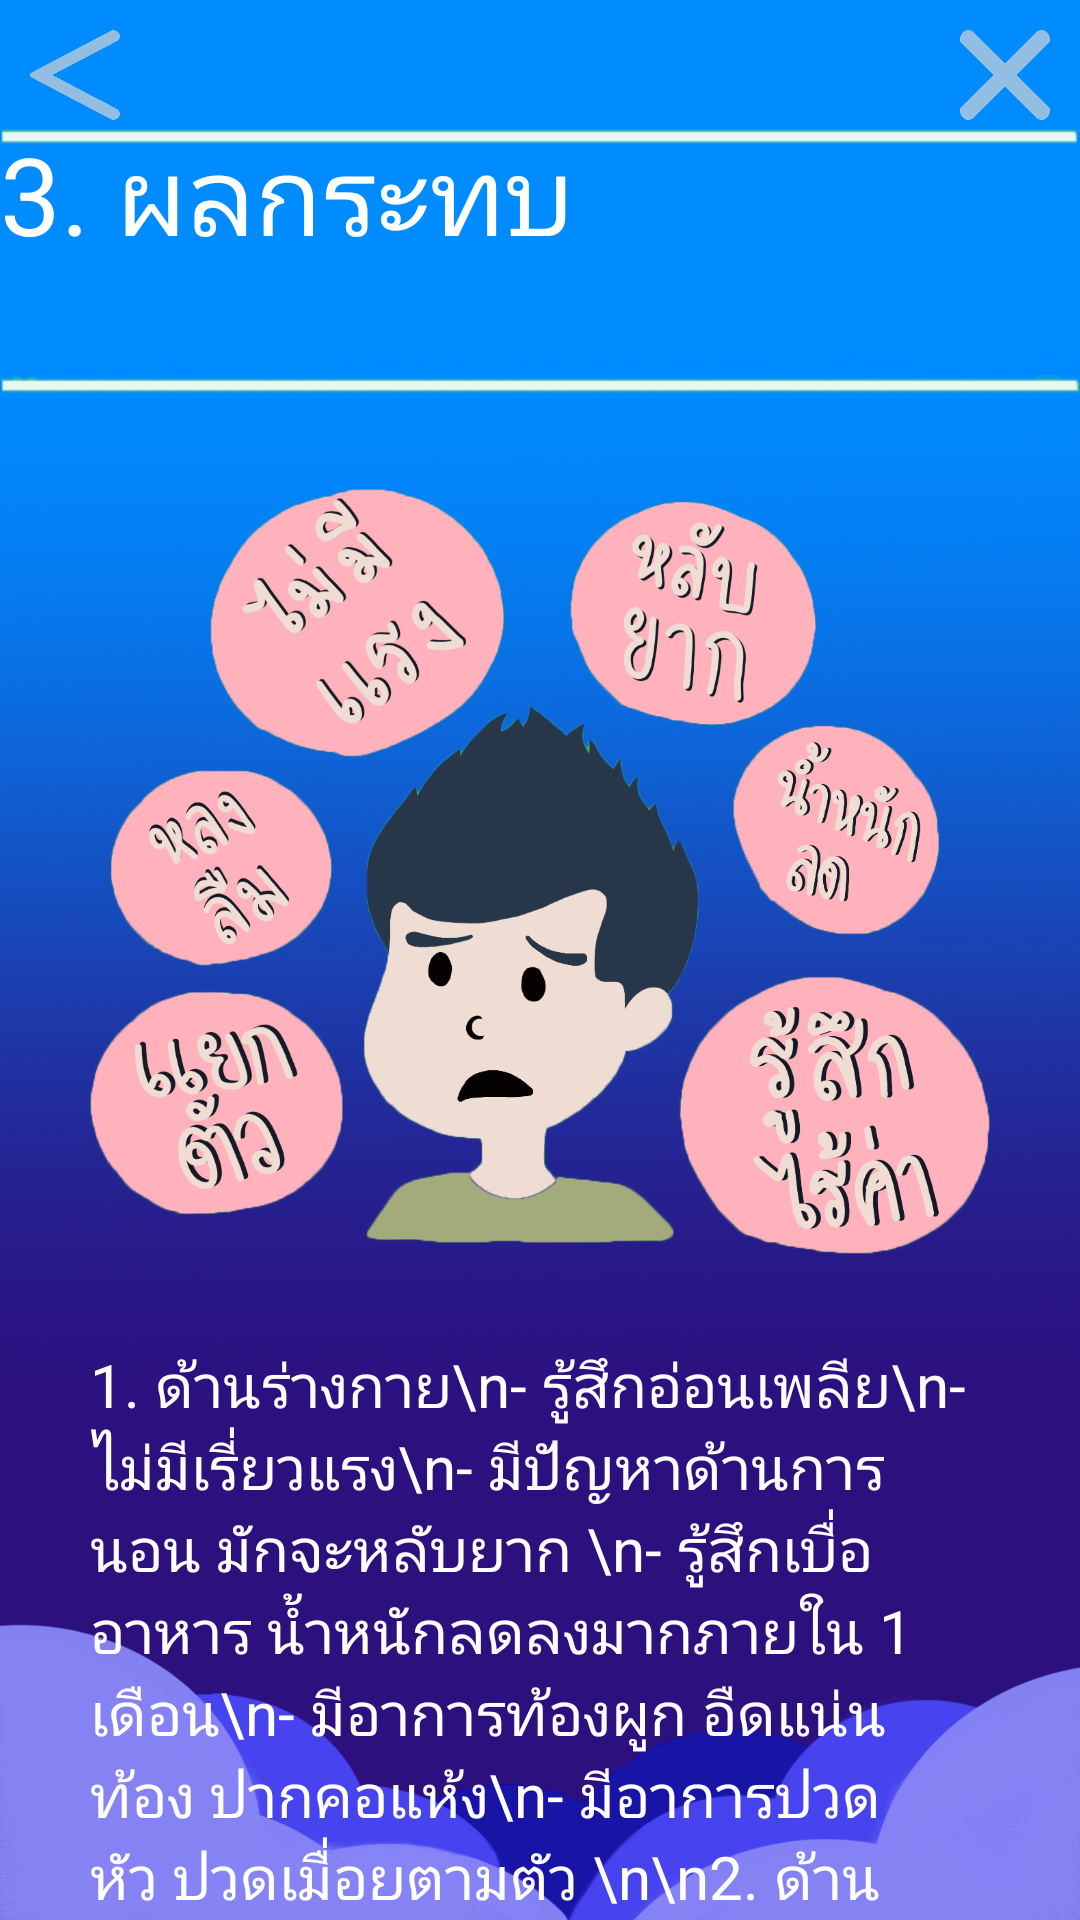

Named icons in this screenshot (1080x1920) and their centers, point (x, y):
backbut: point (75, 75)
exit: point (1005, 75)
